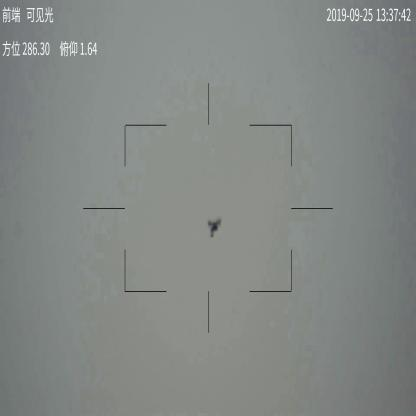uav: (206, 216, 224, 241)
